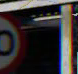Speed limit: (0, 8, 27, 72)
